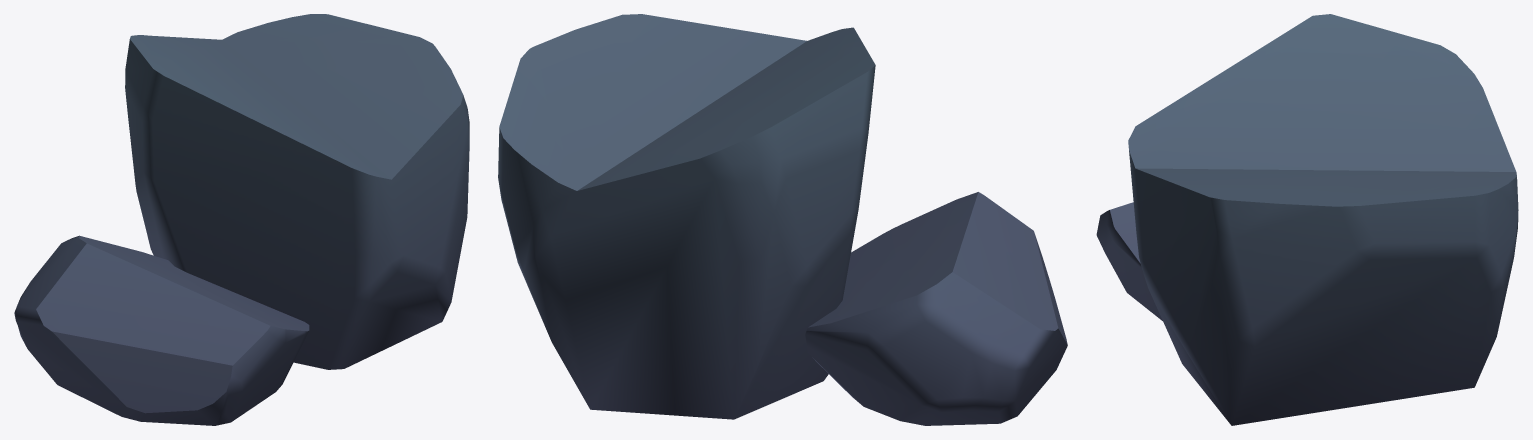
Rendered from Coal_Ore_02_lvl .fbx.
3 renders of one model, left to right at view 1: azimuth 30°, elevation 25°; view 2: azimuth 150°, elevation 25°; view 3: azimuth 270°, elevation 25°, orthographic. The views are drawn at different scales.
Parts seen in each view (by area): view 1: Icosphere.027; view 2: Icosphere.027; view 3: Icosphere.027.
Boxes of the visible parts, left/top/right/bottom form: Icosphere.027: left=14, top=14, right=469, bottom=425; Icosphere.027: left=498, top=14, right=1067, bottom=425; Icosphere.027: left=1096, top=14, right=1518, bottom=425.
Size of the model in its own units: 158 by 99.68 by 132.
